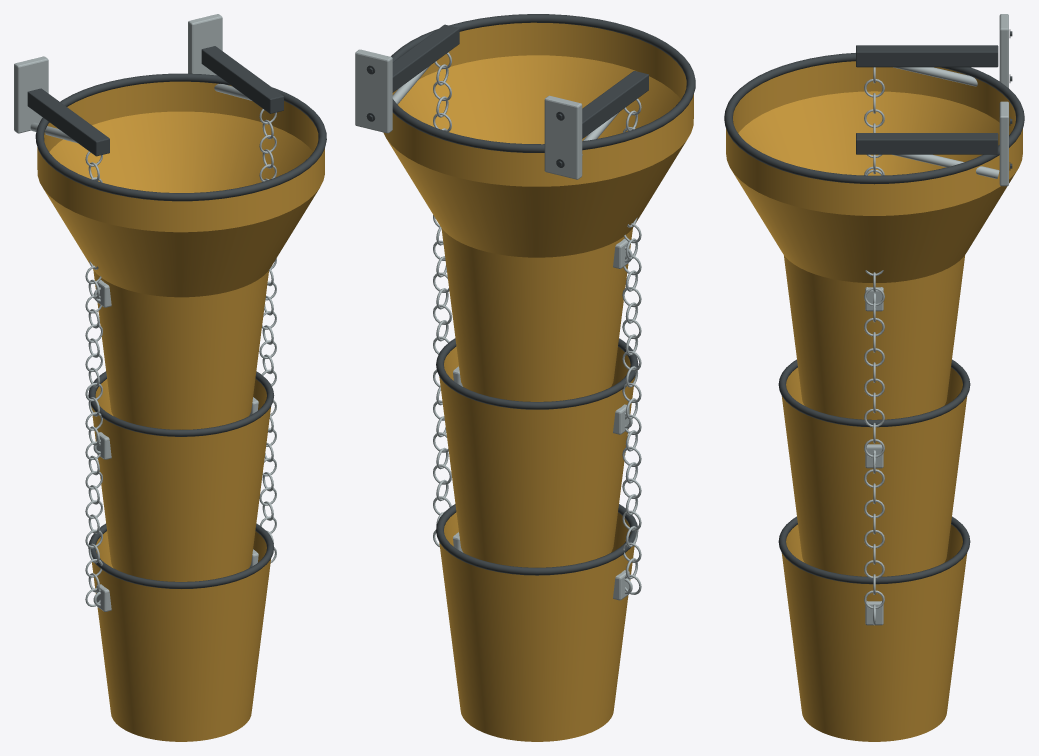
File: city-suspended-rubble-chute.glb
3 renders of one model, left to right at view 1: azimuth 30°, elevation 25°; view 2: azimuth 150°, elevation 25°; view 3: azimuth 270°, elevation 25°, orthographic. The views are drawn at different scales.
Visible parts, largest first — view 1: Assembly | Ochre site enamel, Assembly | Dark coated structure, Assembly | Galvanized-looking support steel; view 2: Assembly | Ochre site enamel, Assembly | Dark coated structure, Assembly | Galvanized-looking support steel; view 3: Assembly | Ochre site enamel, Assembly | Dark coated structure, Assembly | Galvanized-looking support steel.
Boxes of the visible parts, <box> form: Assembly | Ochre site enamel: <box>37,81,324,741</box>; Assembly | Dark coated structure: <box>27,46,326,588</box>; Assembly | Galvanized-looking support steel: <box>14,14,276,611</box>; Assembly | Ochre site enamel: <box>383,22,693,741</box>; Assembly | Dark coated structure: <box>366,14,695,575</box>; Assembly | Galvanized-looking support steel: <box>355,49,641,600</box>; Assembly | Ochre site enamel: <box>726,61,1022,741</box>; Assembly | Dark coated structure: <box>724,29,1024,584</box>; Assembly | Galvanized-looking support steel: <box>864,14,1008,625</box>.
Size of the model in its own units: 0.972 by 2.31 by 0.972.
